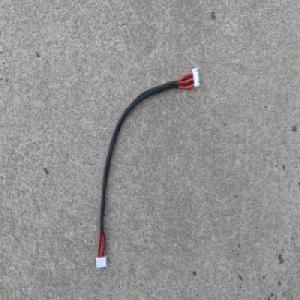Wire: (94, 65, 200, 272)
